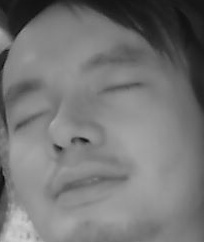blink: (96, 77, 142, 103), (11, 110, 48, 132)
mouth: (45, 158, 130, 209)
